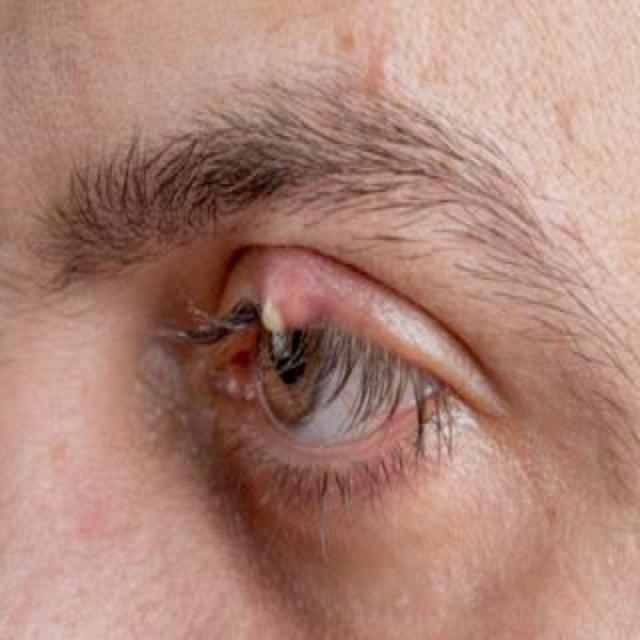Stye: (192, 222, 365, 408)
